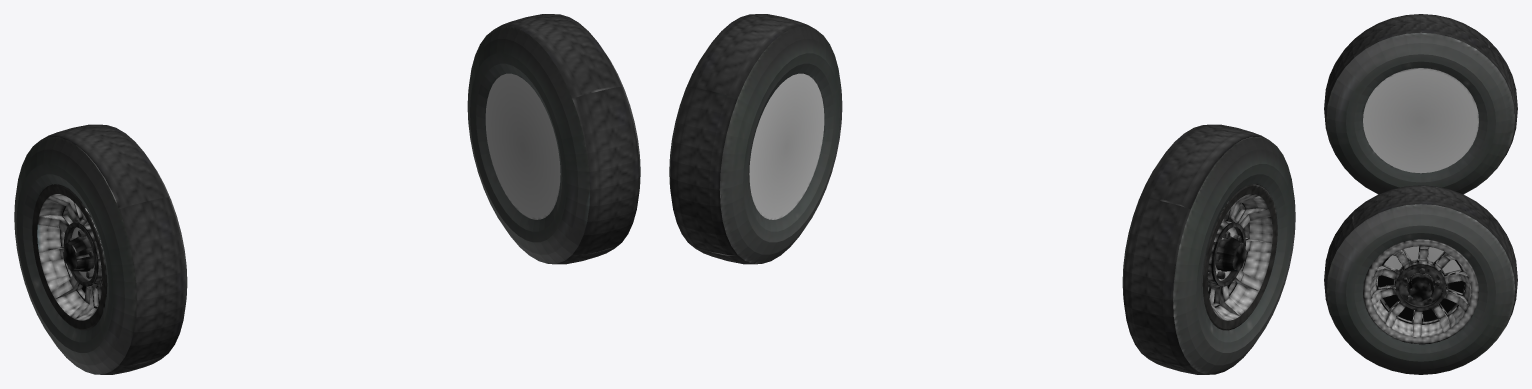
File: jeep_Wheelsback.obj
3 views of the same model, side by side, from view 1: azimuth 30°, elevation 25°; view 2: azimuth 150°, elevation 25°; view 3: azimuth 270°, elevation 25° (orthographic). The views are drawn at different scales.
Size of the model in its own units: 2.29 by 0.9445 by 0.9445.
